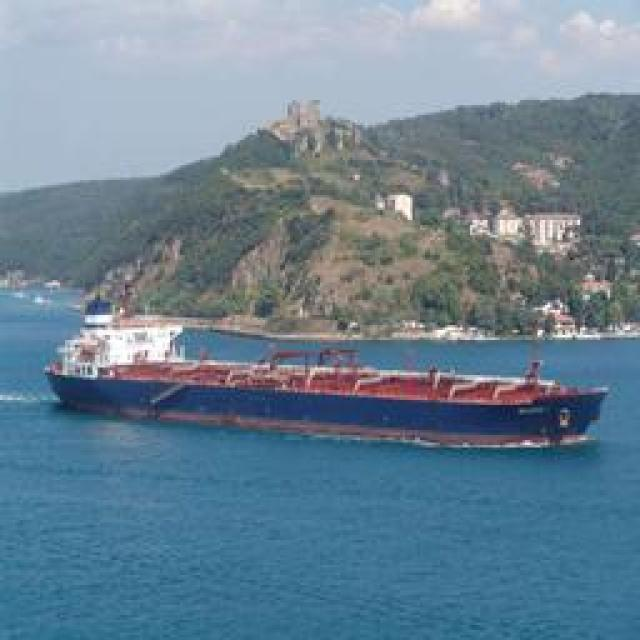ship2: (44, 271, 611, 449)
